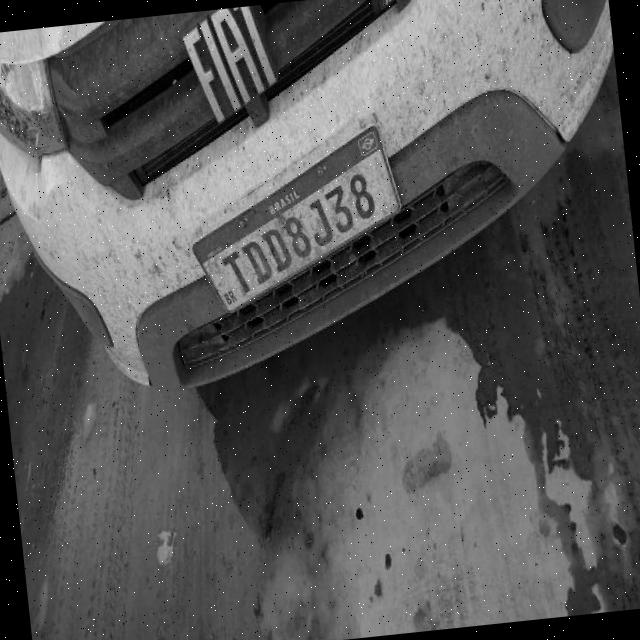placa_mercosul: (193, 126, 399, 308)
